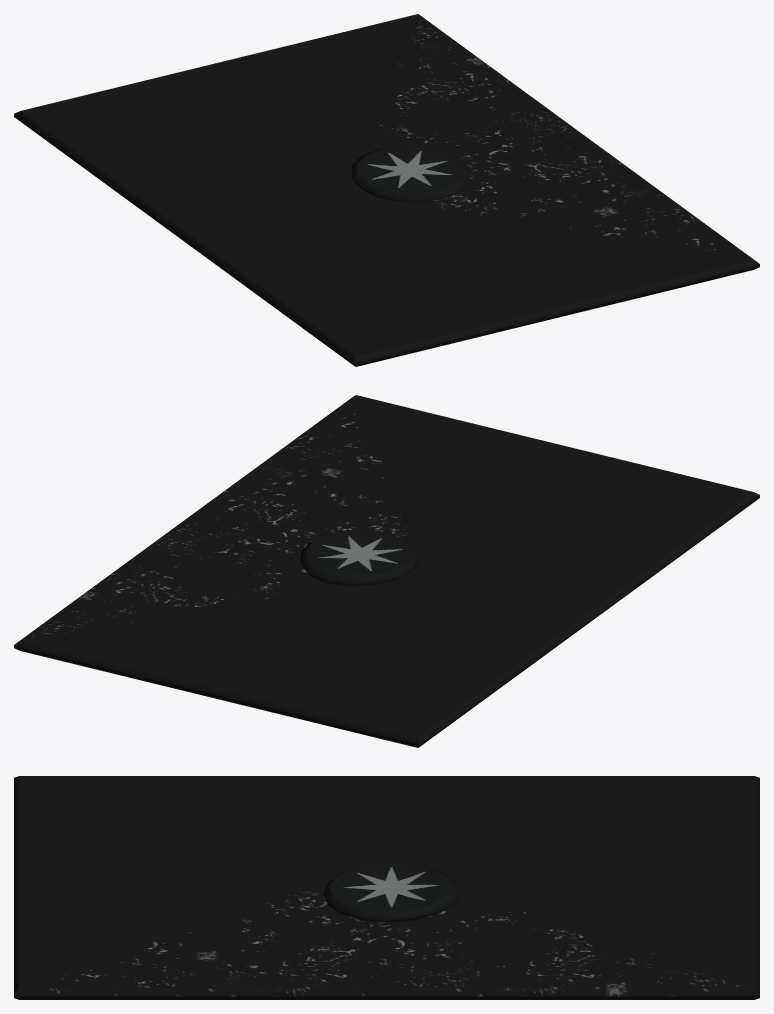
The model's file is letter.glb.
The picture shows the model from 3 angles, top to bottom: view 1: azimuth 30°, elevation 25°; view 2: azimuth 150°, elevation 25°; view 3: azimuth 270°, elevation 25°; orthographic projection. The views are drawn at different scales.
Visible parts, largest first — view 1: envelope; view 2: envelope; view 3: envelope.
Boxes of the visible parts, <box> form: envelope: <box>14,14,759,366</box>; envelope: <box>14,395,759,747</box>; envelope: <box>14,776,759,999</box>.
Size of the model in its own units: 0.1373 by 0.00629 by 0.1995.
Materials: 1 (1 with a texture image).
